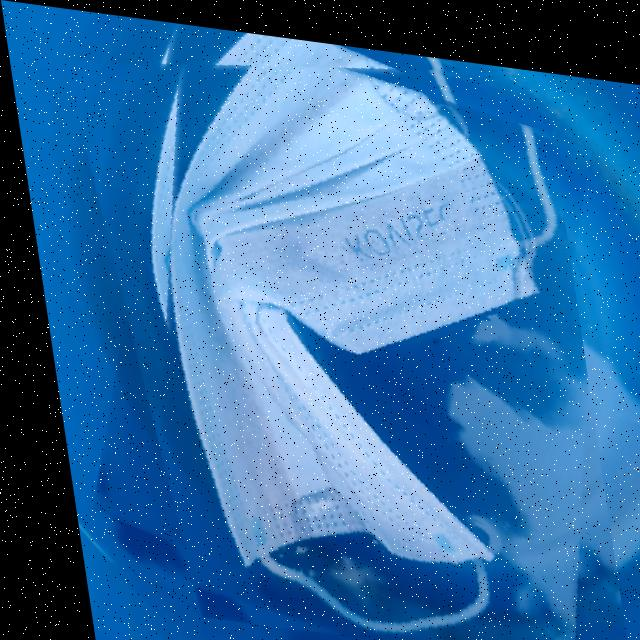litter: (55, 6, 612, 640)
